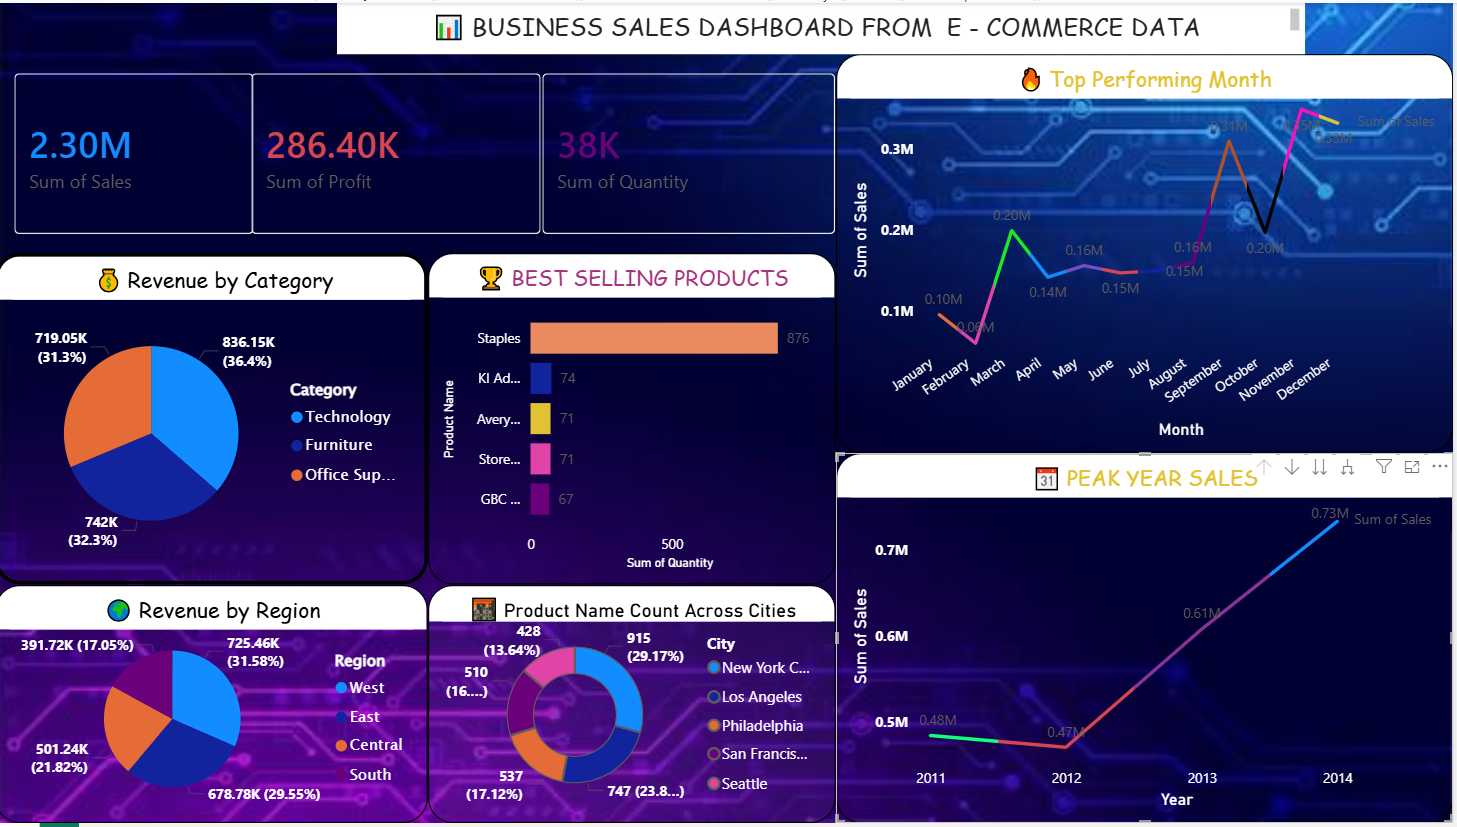

Layout of this report page (visuals, bound fields, positions):
{"tool":"powerbi","page":{"name":"Page 1","canvas":[1280,720],"ordinal":0},"visuals":[{"type":"barChart","title":" 🏆 BEST SELLING PRODUCTS","fields":{"Category":["Orders.Product Name"],"Y":["Sum(Orders.Quantity)"]},"box":[380.3,219.8,357.9,290.8],"z":0},{"type":"lineChart","title":"🔥 Top Performing Month","fields":{"Category":["Orders.Order Date.Variation.Date Hierarchy.Year","Orders.Order Date.Variation.Date Hierarchy.Month"],"Y":["Sum(Orders.Sales)"]},"box":[738.2,44.7,541.8,350.2],"z":1000},{"type":"pieChart","title":"💰 Revenue by Category","fields":{"Category":["Orders.Category"],"Y":["Sum(Orders.Sales)"]},"box":[0,219.8,380.3,290.8],"z":2000},{"type":"pieChart","title":"🌍 Revenue by Region","fields":{"Y":["Sum(Orders.Sales)"],"Category":["Orders.Region"]},"box":[0,510.6,380.3,209.1],"z":3000},{"type":"textbox","box":[300.3,0,850,44.8],"z":4000},{"type":"lineChart","title":"📆 PEAK YEAR SALES","fields":{"Category":["Orders.Order Date.Variation.Date Hierarchy.Year","Orders.Order Date.Variation.Date Hierarchy.Month"],"Y":["Sum(Orders.Sales)"]},"box":[738.2,394.9,541.8,324.9],"z":4002},{"type":"donutChart","title":"🌆 Product Name Count Across Cities","fields":{"Y":["CountNonNull(Orders.Product Name)"],"Category":["Orders.City"]},"box":[380.3,510.6,357.9,209.1],"z":4003},{"type":"cardVisual","fields":{"Data":["Sum(Orders.Sales)"]},"box":[0,44.7,244.1,175.1],"z":4004},{"type":"cardVisual","fields":{"Data":["Sum(Orders.Profit)"]},"box":[208.1,44.7,288.9,175.1],"z":4005},{"type":"cardVisual","fields":{"Data":["Sum(Orders.Quantity)"]},"box":[464,44.7,291.8,175.1],"z":4006}]}

Visuals, with their boxes in screenshot pixels (x1, y1, x2, y2), scaled from the page's 1280x720 canvas onto the 1457x827 screenshot:
" 🏆 BEST SELLING PRODUCTS" barChart: [433,252,840,586]
"🔥 Top Performing Month" lineChart: [840,51,1456,454]
"💰 Revenue by Category" pieChart: [0,252,433,586]
"🌍 Revenue by Region" pieChart: [0,586,433,826]
textbox: [342,0,1309,51]
"📆 PEAK YEAR SALES" lineChart: [840,454,1456,826]
"🌆 Product Name Count Across Cities" donutChart: [433,586,840,826]
cardVisual - Sum(Orders.Sales): [0,51,278,252]
cardVisual - Sum(Orders.Profit): [237,51,566,252]
cardVisual - Sum(Orders.Quantity): [528,51,860,252]
